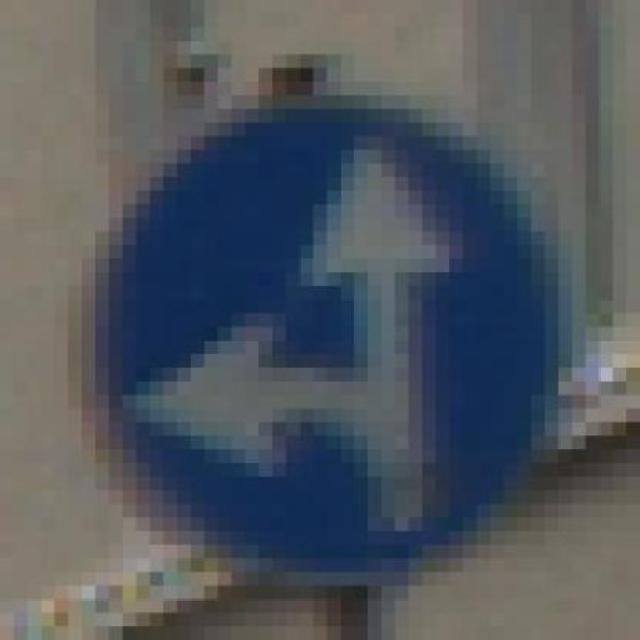Go straight or turn left: (68, 68, 600, 586)
